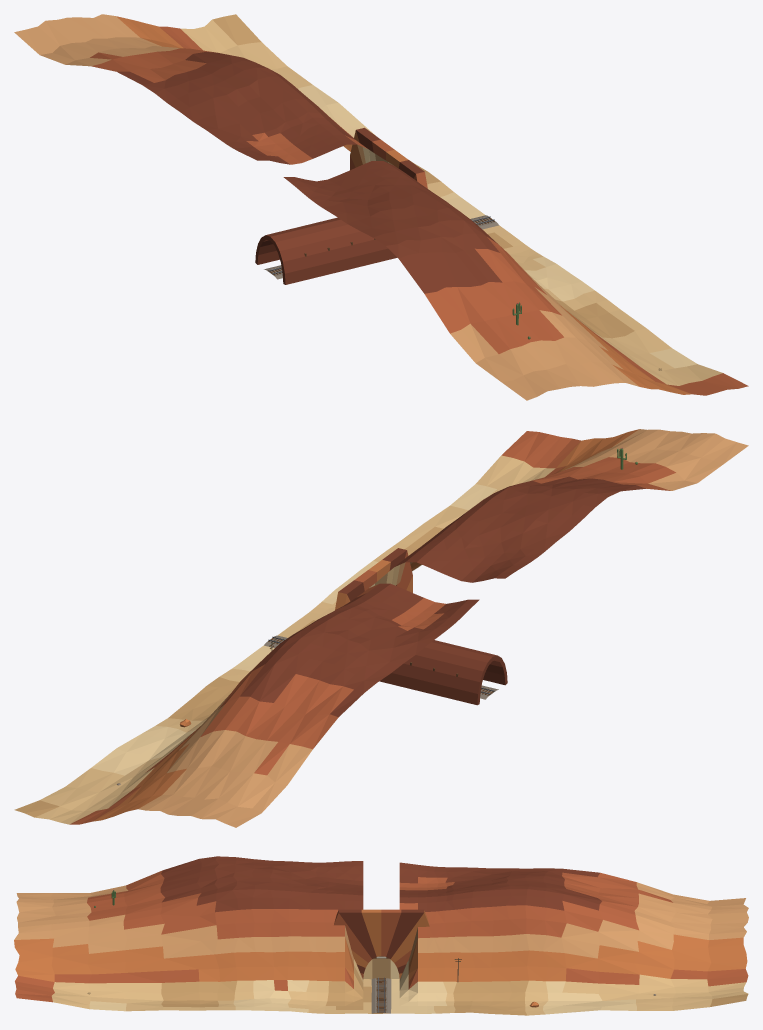
File: SM_FG_Chunk_Tunnel_Exit_A.fbx
3 renders of one model, top to bottom at view 1: azimuth 30°, elevation 25°; view 2: azimuth 150°, elevation 25°; view 3: azimuth 270°, elevation 25°, orthographic. The views are drawn at different scales.
Parts seen in each view (by area): view 1: FG_Chunk_Tunnel_Exit_A_Ground, FG_Chunk_Tunnel_Exit_A_SceneryNear; view 2: FG_Chunk_Tunnel_Exit_A_Ground, FG_Chunk_Tunnel_Exit_A_SceneryNear; view 3: FG_Chunk_Tunnel_Exit_A_Ground, FG_Chunk_Tunnel_Exit_A_SceneryNear, FG_Chunk_Tunnel_Exit_A_Track.
Boxes of the visible parts, x1,y1,x2,y2 form: FG_Chunk_Tunnel_Exit_A_Ground: [14, 14, 748, 400]; FG_Chunk_Tunnel_Exit_A_SceneryNear: [255, 127, 661, 370]; FG_Chunk_Tunnel_Exit_A_Ground: [14, 429, 748, 827]; FG_Chunk_Tunnel_Exit_A_SceneryNear: [117, 447, 637, 785]; FG_Chunk_Tunnel_Exit_A_Ground: [14, 856, 748, 1015]; FG_Chunk_Tunnel_Exit_A_SceneryNear: [87, 889, 655, 1007]; FG_Chunk_Tunnel_Exit_A_Track: [371, 977, 391, 1013].
Size of the model in its own units: 5000 by 20150 by 2487.
